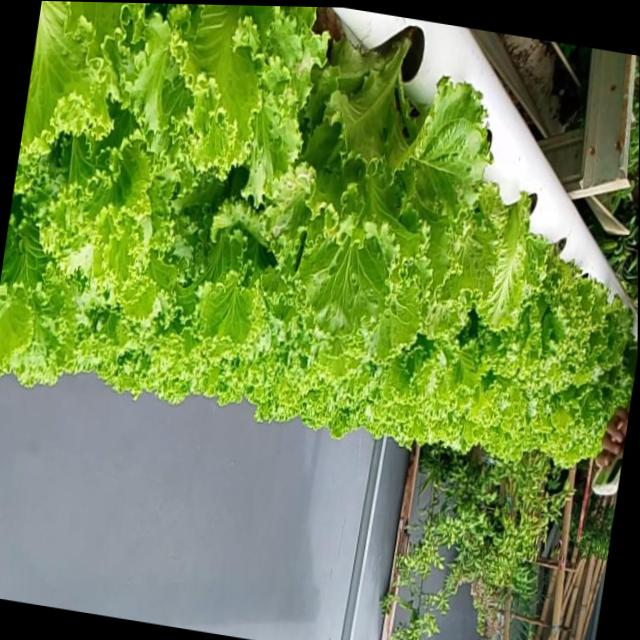Mature: (277, 18, 494, 349), (494, 224, 608, 389)
